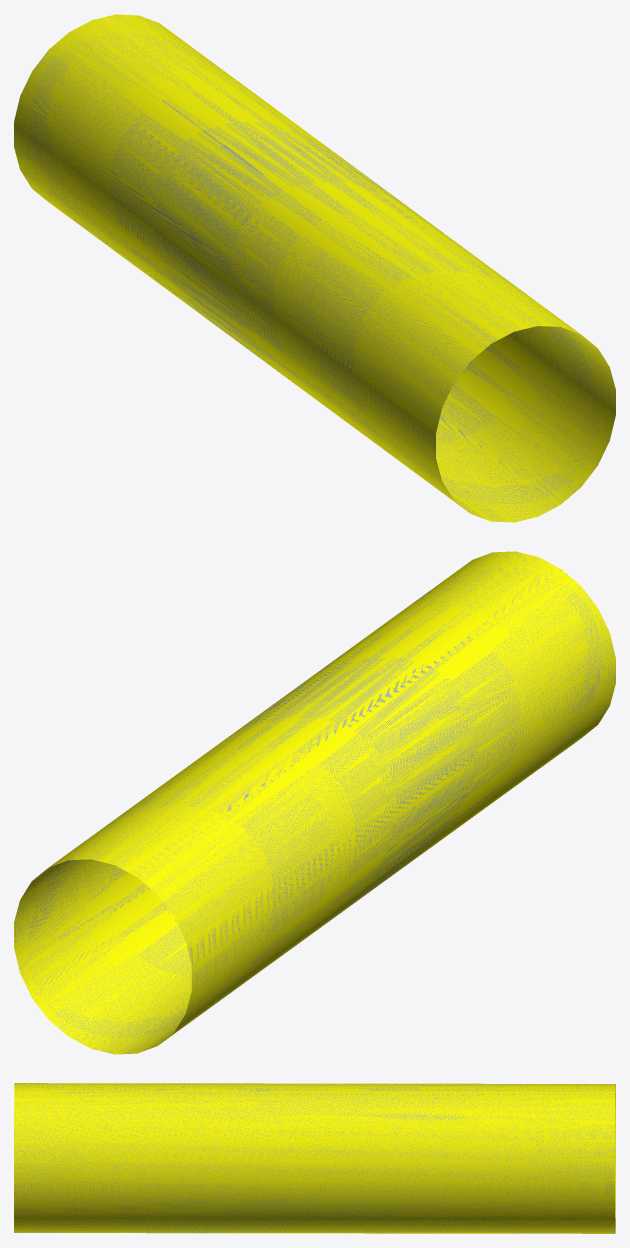
3 views of the same model, one above another, from view 1: azimuth 30°, elevation 25°; view 2: azimuth 150°, elevation 25°; view 3: azimuth 270°, elevation 25° (orthographic). The views are drawn at different scales.
Parts seen in each view (by area): view 1: Tunnel_Straight_8; view 2: Tunnel_Straight_8; view 3: Tunnel_Straight_8.
Boxes of the visible parts, x1=… form: Tunnel_Straight_8: x1=14, y1=14, x2=615, y2=522; Tunnel_Straight_8: x1=14, y1=551, x2=615, y2=1054; Tunnel_Straight_8: x1=14, y1=1083, x2=615, y2=1233.
Size of the model in its own units: 23.77 by 96.08 by 23.79.
